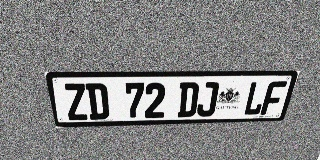2: (145, 82, 166, 118)
7: (124, 83, 144, 119)
D: (85, 83, 110, 120), (177, 82, 200, 117)
F: (260, 81, 287, 115)
J: (196, 82, 220, 117)
L: (242, 81, 269, 115)
Z: (62, 83, 89, 120)
